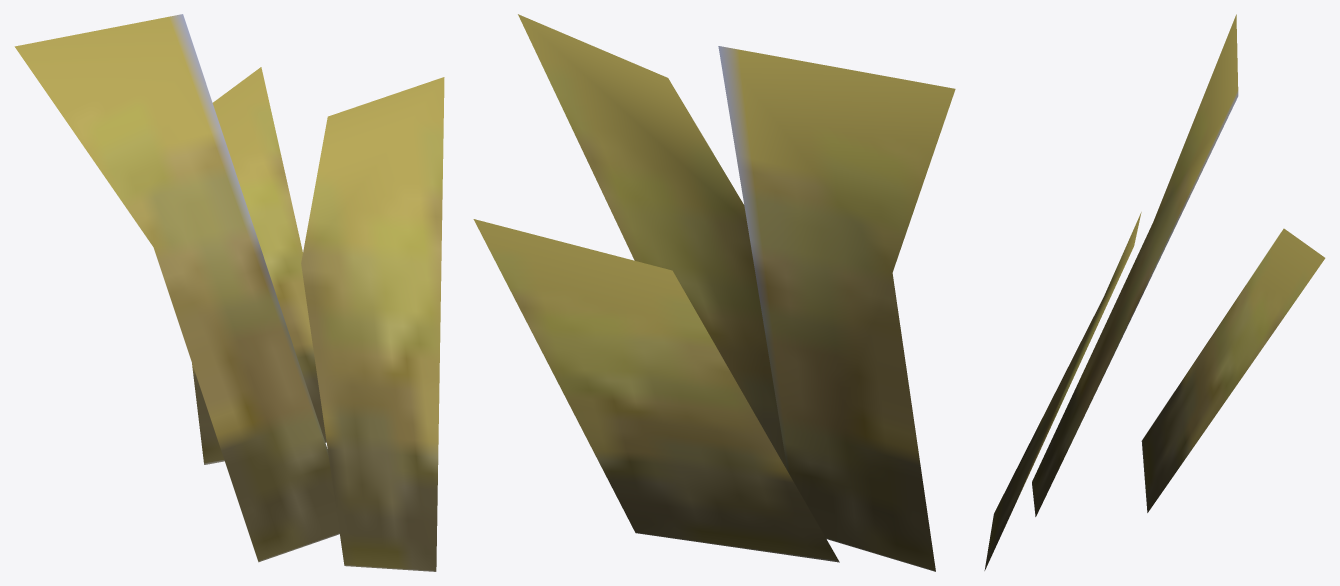
File: fg_grassD.dae
3 views of the same model, side by side, from view 1: azimuth 30°, elevation 25°; view 2: azimuth 150°, elevation 25°; view 3: azimuth 270°, elevation 25° (orthographic). The views are drawn at different scales.
Parts seen in each view (by area): view 1: fg_grassD; view 2: fg_grassD; view 3: fg_grassD.
Boxes of the visible parts, <box> form: fg_grassD: <box>14,14,444,571</box>; fg_grassD: <box>473,14,955,571</box>; fg_grassD: <box>984,14,1325,570</box>.
Size of the model in its own units: 14.73 by 18.52 by 13.13.
Materials: 1 (1 with a texture image).
